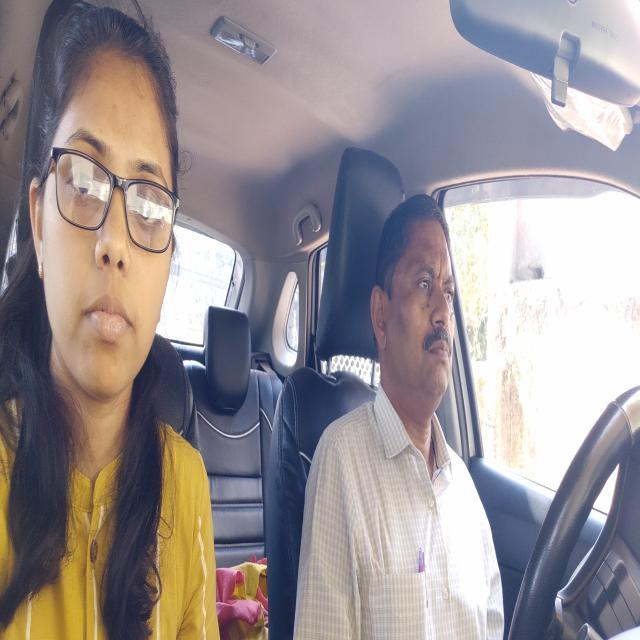person: (33, 22, 177, 407), (377, 202, 461, 404)
